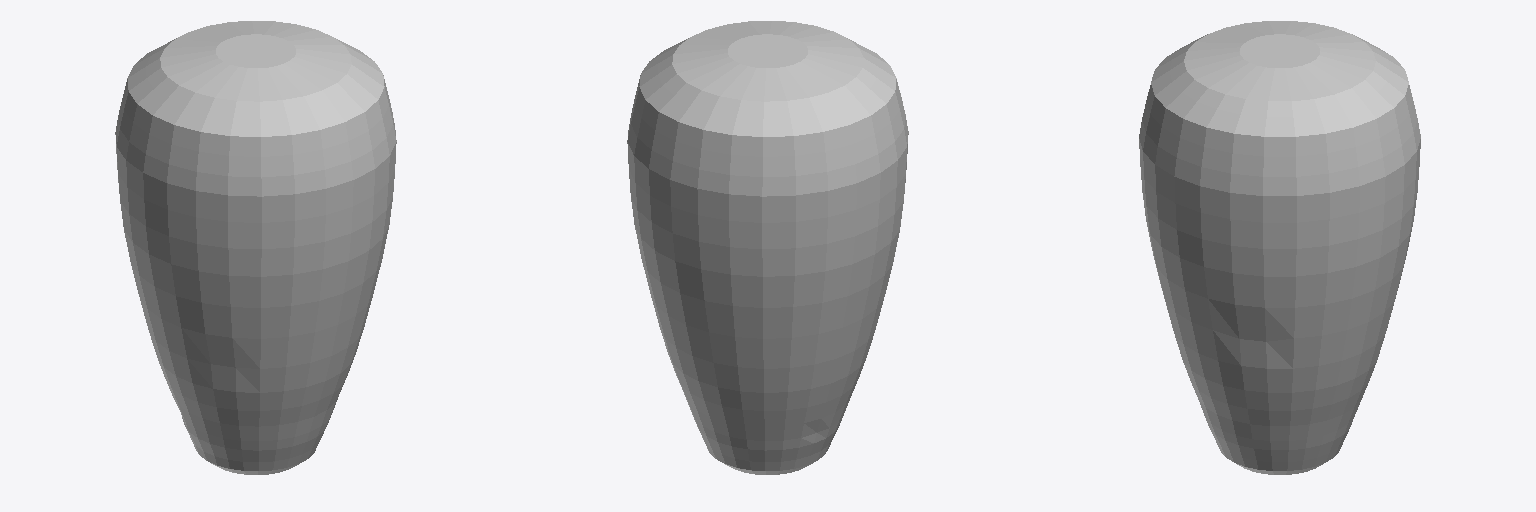
Rendered from spiess2.obj.
3 renders of one model, left to right at view 1: azimuth 30°, elevation 25°; view 2: azimuth 150°, elevation 25°; view 3: azimuth 270°, elevation 25°, orthographic.
Visible parts, largest first — view 1: Cylinder_Cylinder.002; view 2: Cylinder_Cylinder.002; view 3: Cylinder_Cylinder.002.
Boxes of the visible parts, <box> form: Cylinder_Cylinder.002: <box>115,21,396,474</box>; Cylinder_Cylinder.002: <box>627,21,908,474</box>; Cylinder_Cylinder.002: <box>1139,21,1420,474</box>.
Bounding box in the file's own units: 13.18 × 21.26 × 13.28.